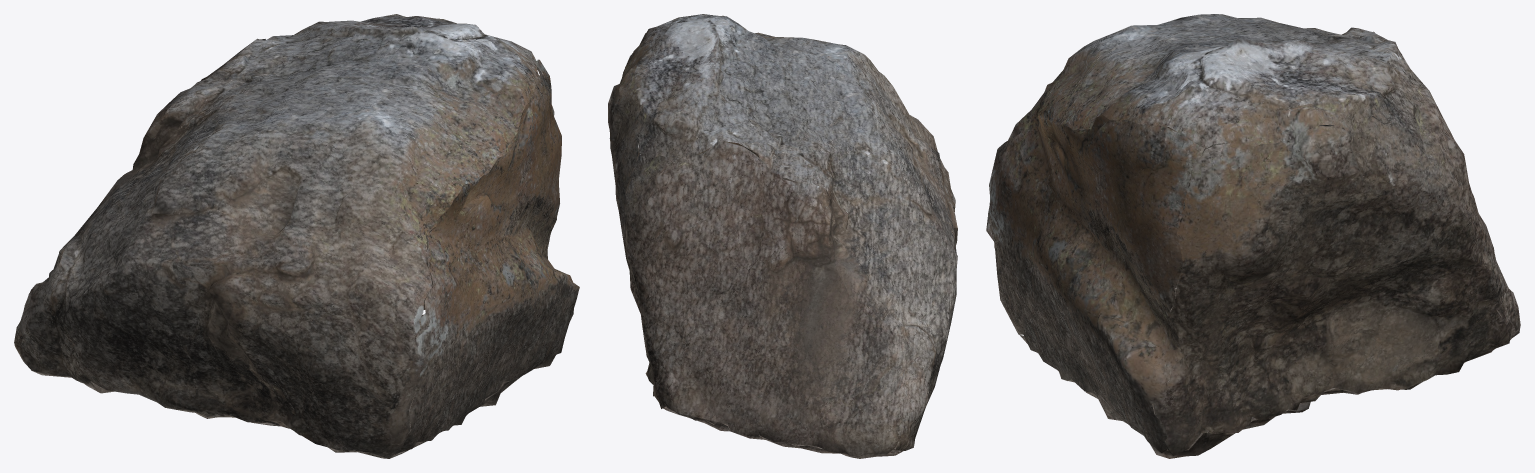
Rendered from granite_boulder_c.gltf.
3 views of the same model, side by side, from view 1: azimuth 30°, elevation 25°; view 2: azimuth 150°, elevation 25°; view 3: azimuth 270°, elevation 25° (orthographic). The views are drawn at different scales.
Parts seen in each view (by area): view 1: granite_boulder_c; view 2: granite_boulder_c; view 3: granite_boulder_c.
Part boxes in pixels (x1=…): granite_boulder_c: x1=14, y1=14, x2=579, y2=458; granite_boulder_c: x1=608, y1=14, x2=957, y2=458; granite_boulder_c: x1=986, y1=14, x2=1520, y2=458.
Bounding box in the file's own units: 2.52 × 1.9 × 2.5.
1 material, 1 textured.
